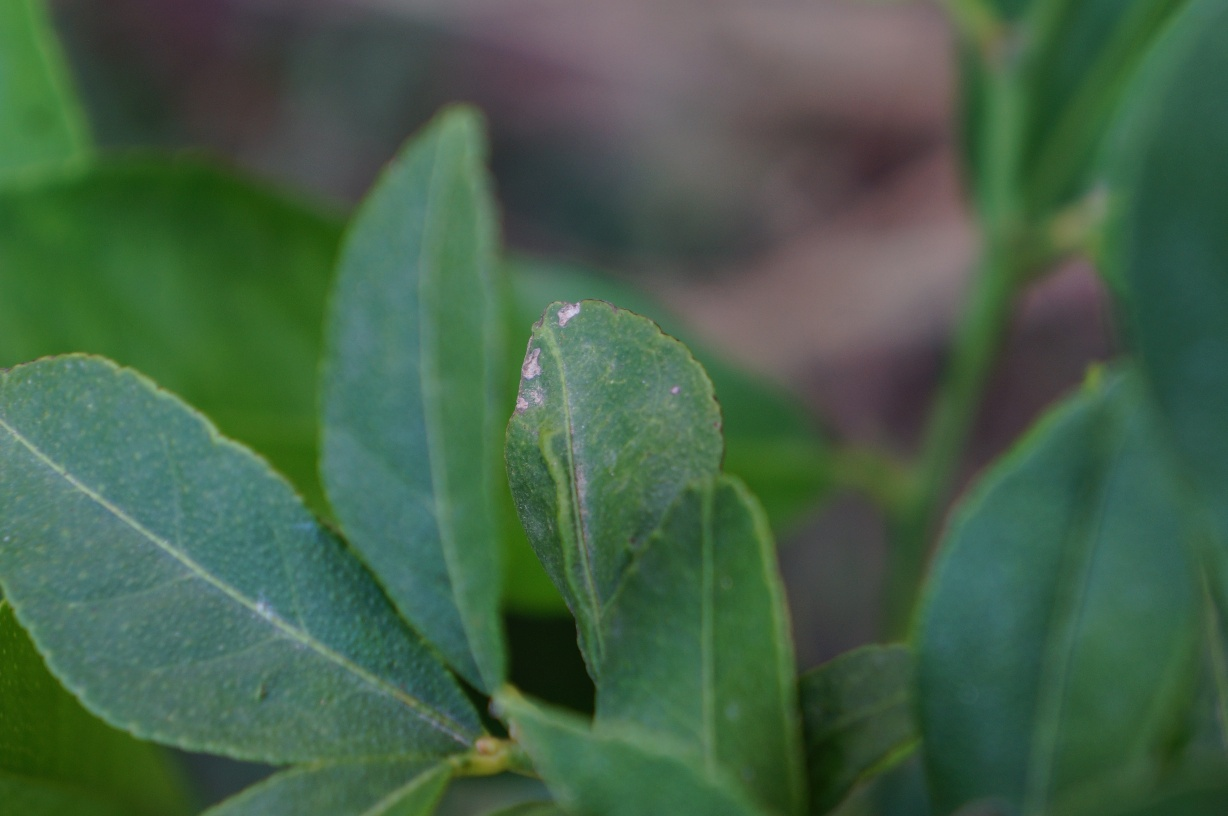damage: (507, 296, 583, 425)
